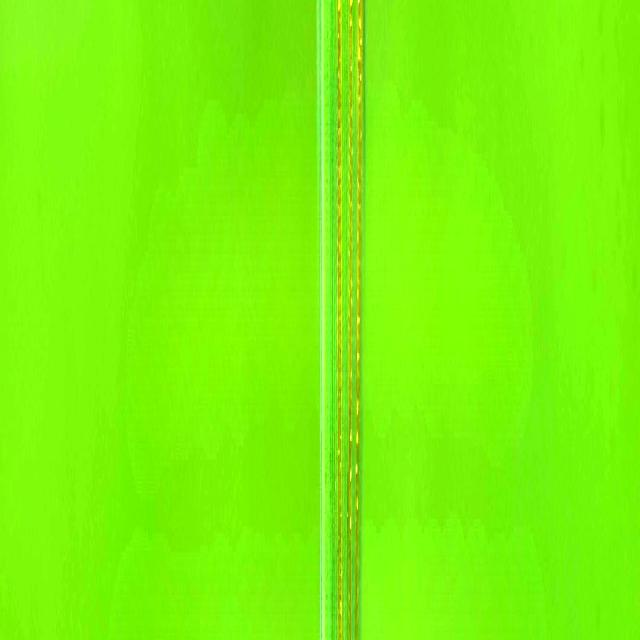BLS: (355, 0, 362, 640), (337, 0, 342, 640), (348, 0, 352, 606)
